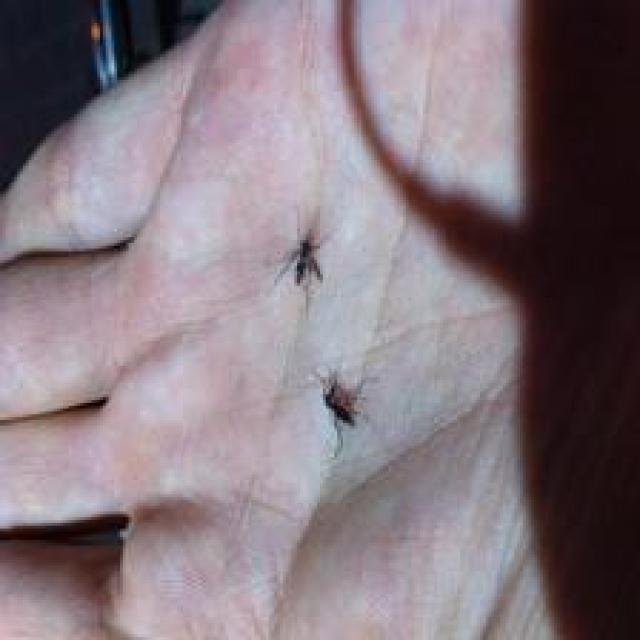Aedes albopictus: (274, 228, 326, 292)
